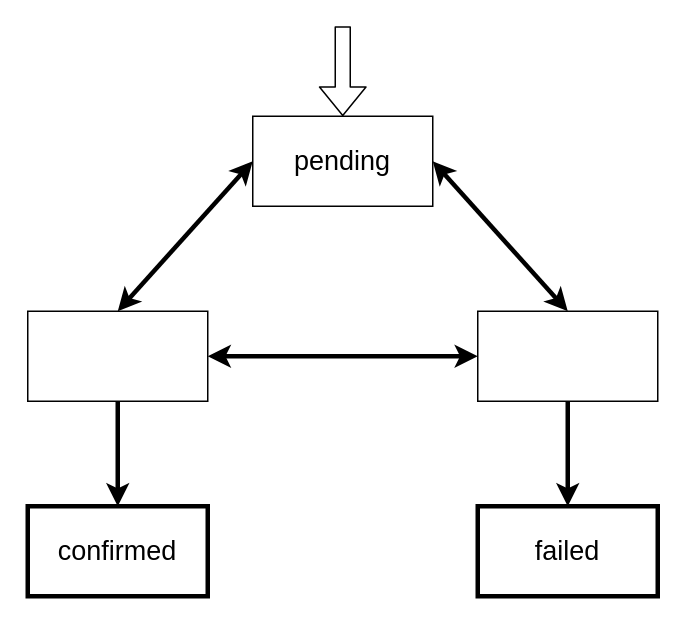
This 686x624 diagram has some shape labels left out. The shapes that lost their labels are listed below. From the top down, each one's centre as x and y in pixels, then its label:
(x=117, y=355): received
(x=567, y=355): dropped
